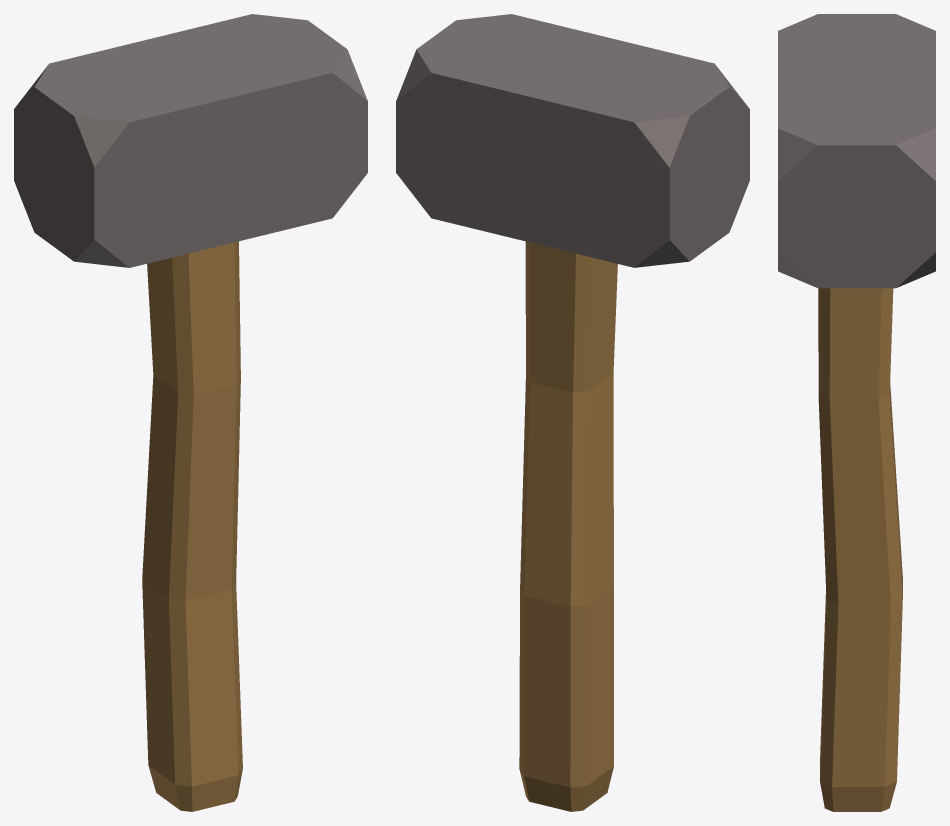
Rendered from Hammer.fbx.
3 renders of one model, left to right at view 1: azimuth 30°, elevation 25°; view 2: azimuth 150°, elevation 25°; view 3: azimuth 270°, elevation 25°, orthographic.
Parts seen in each view (by area): view 1: Hammer; view 2: Hammer; view 3: Hammer.
Part boxes in pixels (box(x1,y1,x2,y2)): Hammer: box(14, 14, 367, 811); Hammer: box(396, 14, 749, 811); Hammer: box(778, 14, 935, 811).
Size of the model in its own units: 19.65 by 50 by 10.
